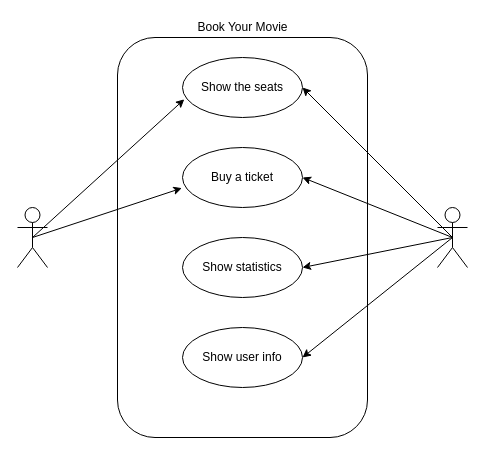
The diagram is 487 pixels wide and 455 high, and some of its shapes have lost their labels. The shapes that lost their labels are listed below. From the top down, each one's centre as x and y in pixels, then its label:
At [32,237]: "User".
At [452,237]: "Admin".
